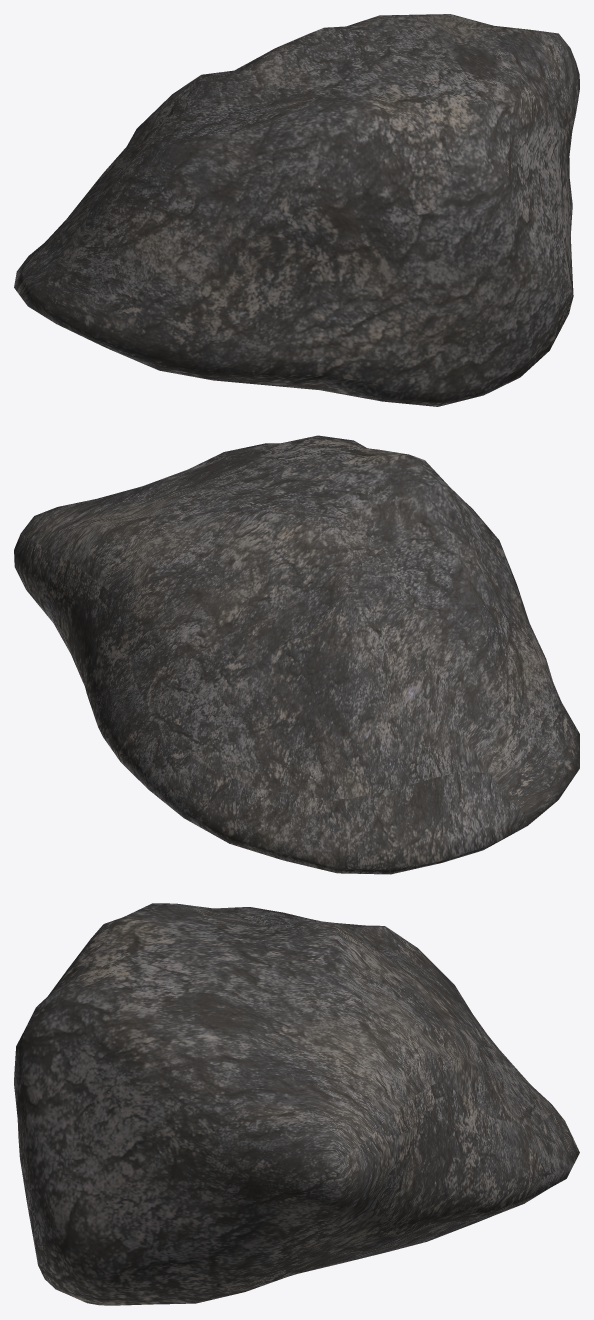
File: Rock06.dae
The picture shows the model from 3 angles, top to bottom: view 1: azimuth 30°, elevation 25°; view 2: azimuth 150°, elevation 25°; view 3: azimuth 270°, elevation 25°; orthographic projection. The views are drawn at different scales.
Visible parts, largest first — view 1: Rock06; view 2: Rock06; view 3: Rock06.
Part boxes in pixels (x1,y1,x2,y2): Rock06: (14,14,579,406); Rock06: (14,435,579,874); Rock06: (14,903,579,1305).
Size of the model in its own units: 7159 by 5929 by 3807.
Materials: 1 (1 with a texture image).
